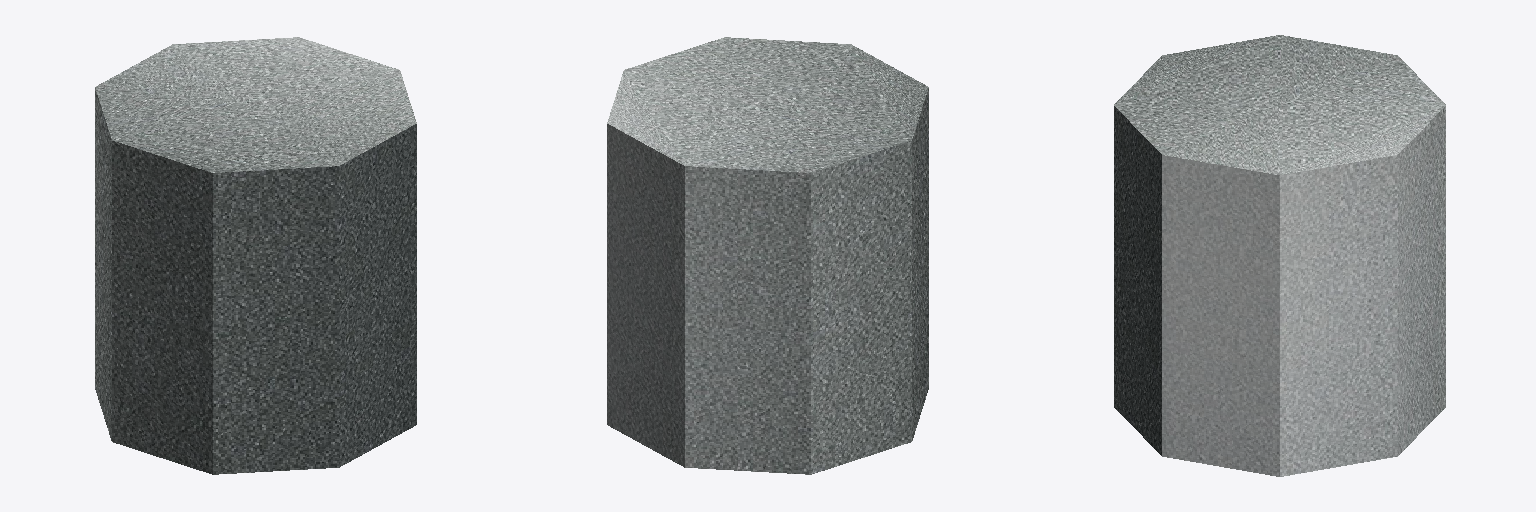
3 renders of one model, left to right at view 1: azimuth 30°, elevation 25°; view 2: azimuth 150°, elevation 25°; view 3: azimuth 270°, elevation 25°, orthographic.
Visible parts, largest first — view 1: 立方體.003; view 2: 立方體.003; view 3: 立方體.003.
Part boxes in pixels (x1,y1,x2,y2): 立方體.003: (95,37,416,474); 立方體.003: (607,37,928,474); 立方體.003: (1114,35,1445,476).
Size of the model in its own units: 100 by 100 by 100.
1 materials, 1 textured.